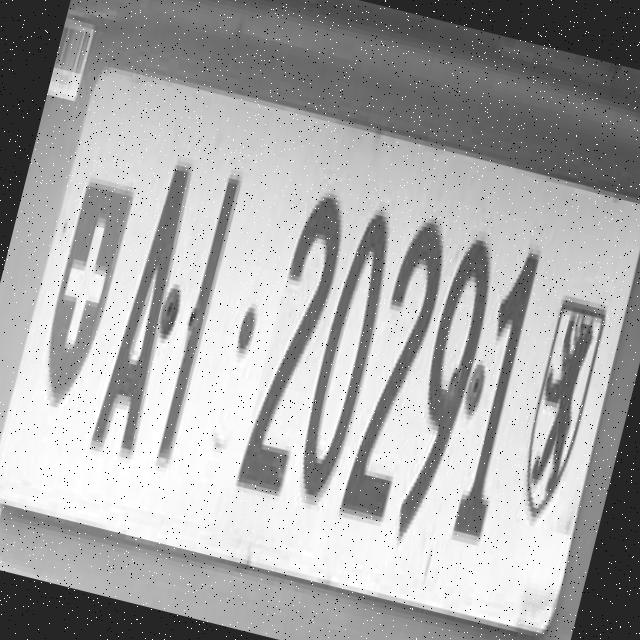Autre: (0, 66, 640, 640)
